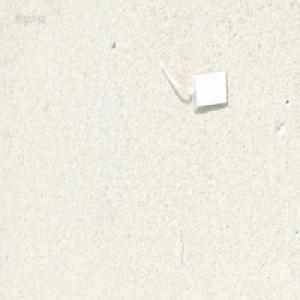LuggageTag: (157, 54, 229, 114)
